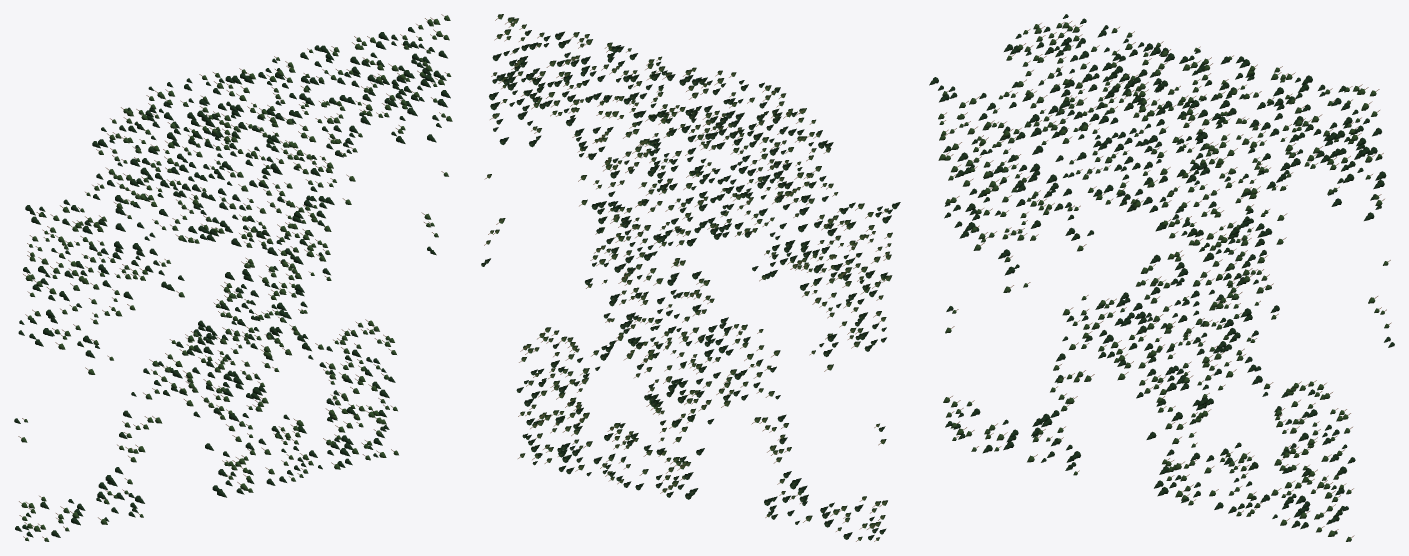
The model's file is forest_6.obj.
The picture shows the model from 3 angles, left to right: view 1: azimuth 30°, elevation 25°; view 2: azimuth 150°, elevation 25°; view 3: azimuth 330°, elevation 25°; orthographic projection. The views are drawn at different scales.
Bounding box in the file's own units: 555 × 555 × 62.46.
